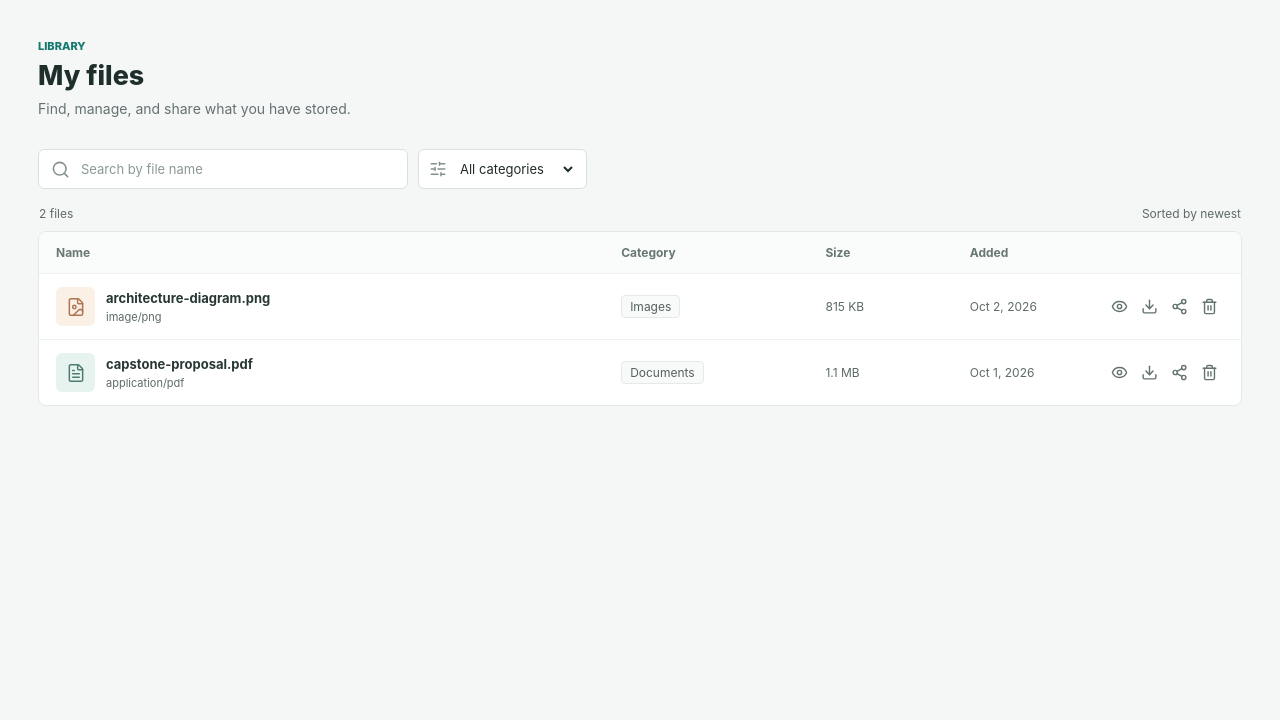
Scenario: file actions › does not open a non-HTTPS download URL
Click the button named "Download capstone-proposal.pdf" at (1150, 373), box x1=1135 y1=358 x2=1164 y2=387
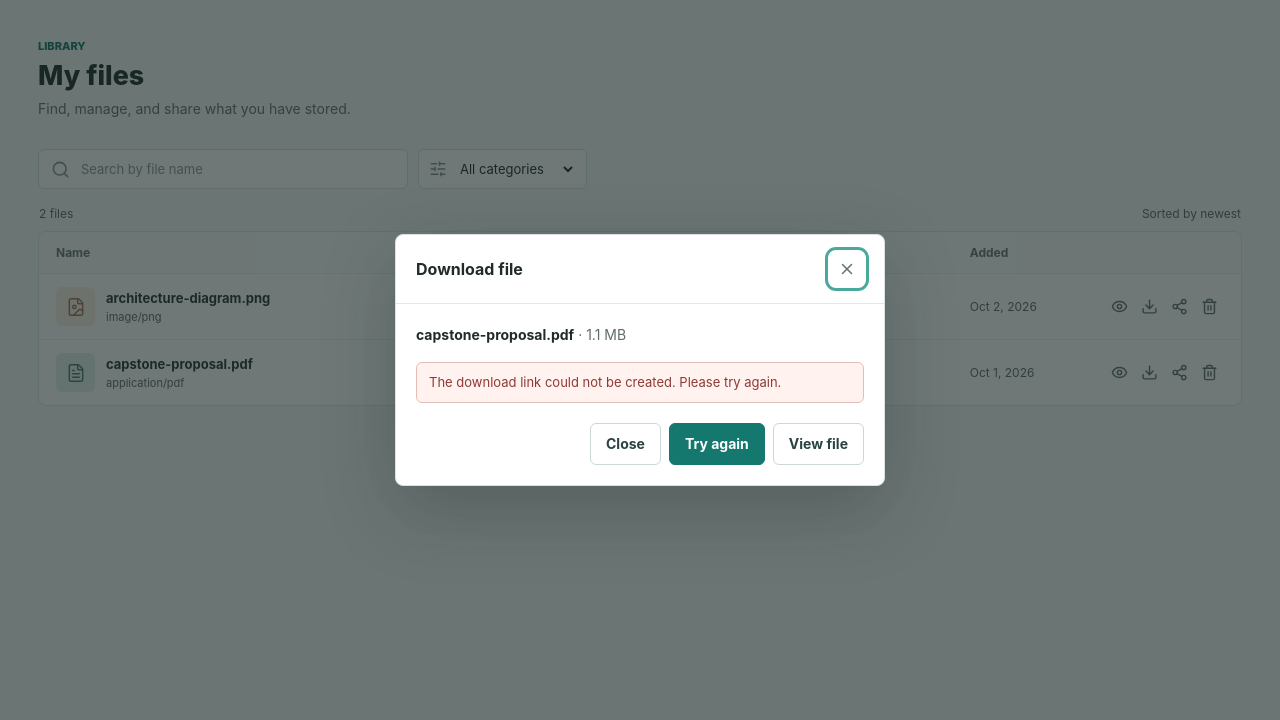
Now the text "The download link could not be created. Please try again." is shown, box x1=416 y1=362 x2=864 y2=403
